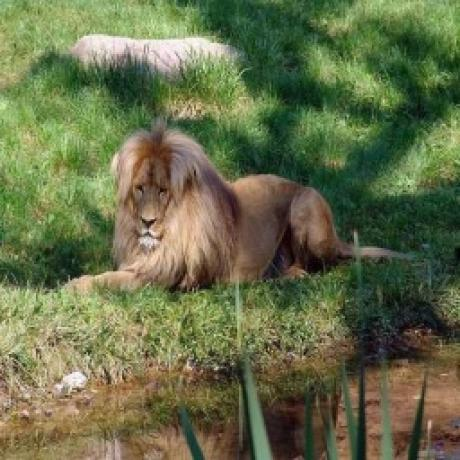Lion: (60, 121, 404, 295)
